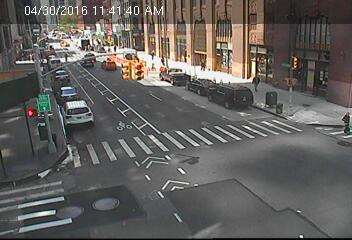neg: (115, 112, 150, 159), (229, 124, 264, 169), (43, 153, 73, 193), (279, 151, 307, 188), (73, 32, 101, 68), (310, 102, 336, 137), (212, 78, 236, 110), (283, 54, 305, 83), (192, 176, 213, 205), (144, 32, 165, 61), (80, 98, 100, 124), (278, 97, 297, 123), (112, 186, 129, 208), (155, 91, 171, 112), (185, 51, 197, 67)
pos: (249, 72, 263, 90)
